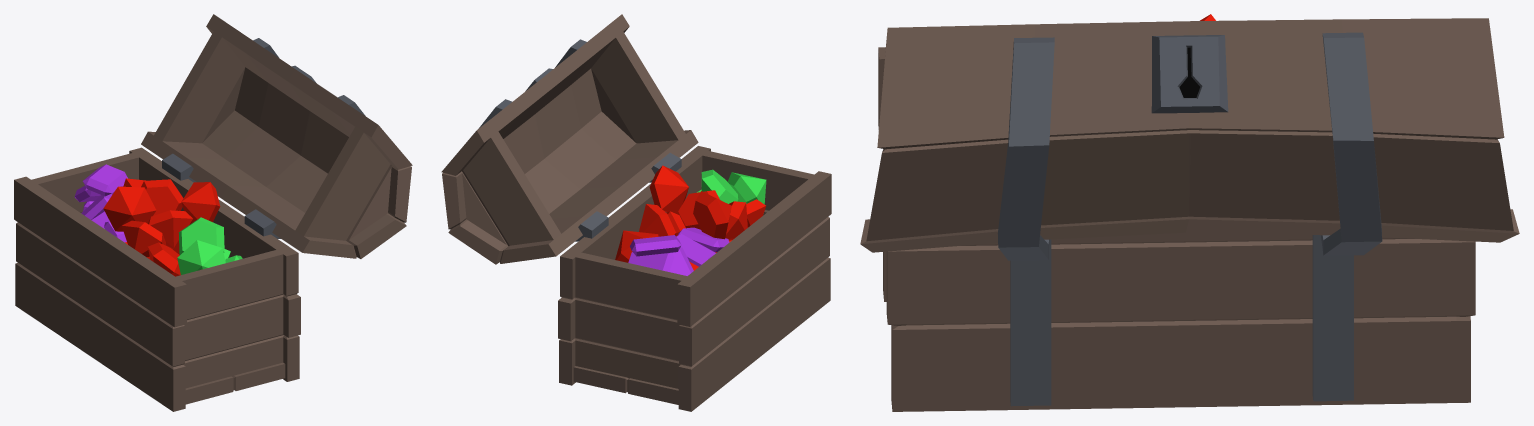
File: Forzierer_cap_smer.fbx
3 views of the same model, side by side, from view 1: azimuth 30°, elevation 25°; view 2: azimuth 150°, elevation 25°; view 3: azimuth 270°, elevation 25° (orthographic). The views are drawn at different scales.
Parts seen in each view (by area): view 1: OpenChest.004; view 2: OpenChest.004; view 3: OpenChest.004.
Part boxes in pixels (box(x1,y1,x2,y2)): OpenChest.004: box(14, 14, 412, 411); OpenChest.004: box(441, 14, 831, 411); OpenChest.004: box(860, 14, 1519, 411).
Bounding box in the file's own units: 83.34 × 74.89 × 97.52.
